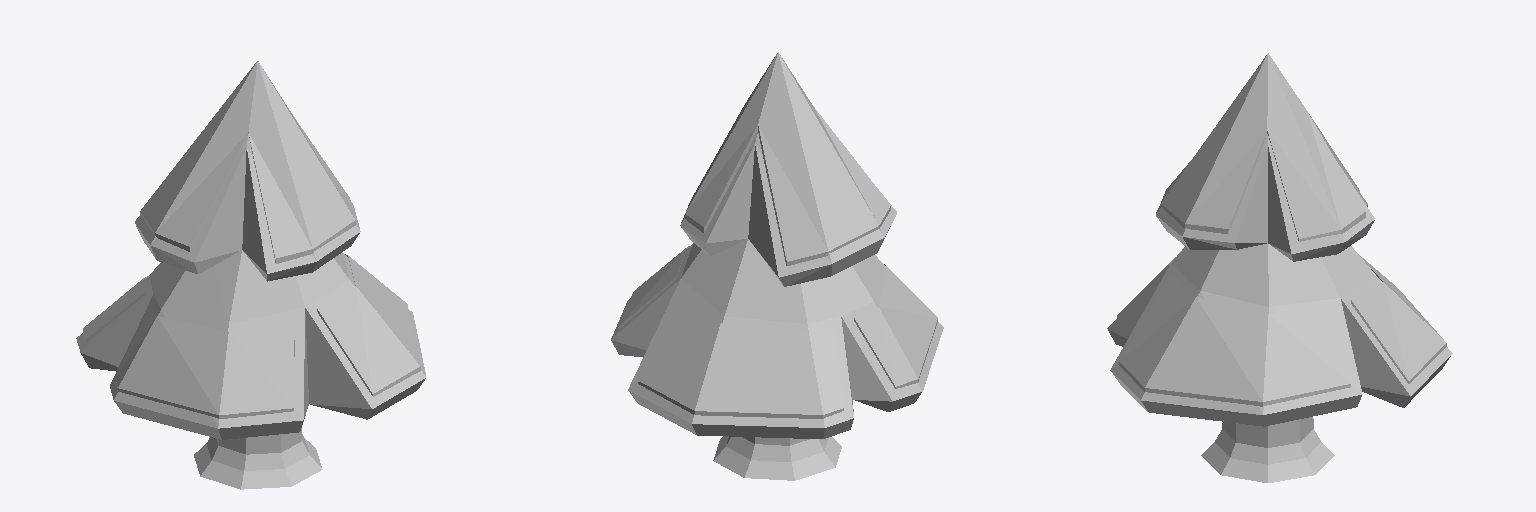
The model's file is winter-tree7.obj.
3 renders of one model, left to right at view 1: azimuth 30°, elevation 25°; view 2: azimuth 150°, elevation 25°; view 3: azimuth 270°, elevation 25°, orthographic.
Visible parts, largest first — view 1: Cylinder.003_Cylinder.001; view 2: Cylinder.003_Cylinder.001; view 3: Cylinder.003_Cylinder.001.
Part boxes in pixels (x1,y1,x2,y2): Cylinder.003_Cylinder.001: (76, 61, 426, 489); Cylinder.003_Cylinder.001: (611, 52, 943, 480); Cylinder.003_Cylinder.001: (1107, 53, 1452, 482).
Bounding box in the file's own units: 1.86 × 2.41 × 1.88.